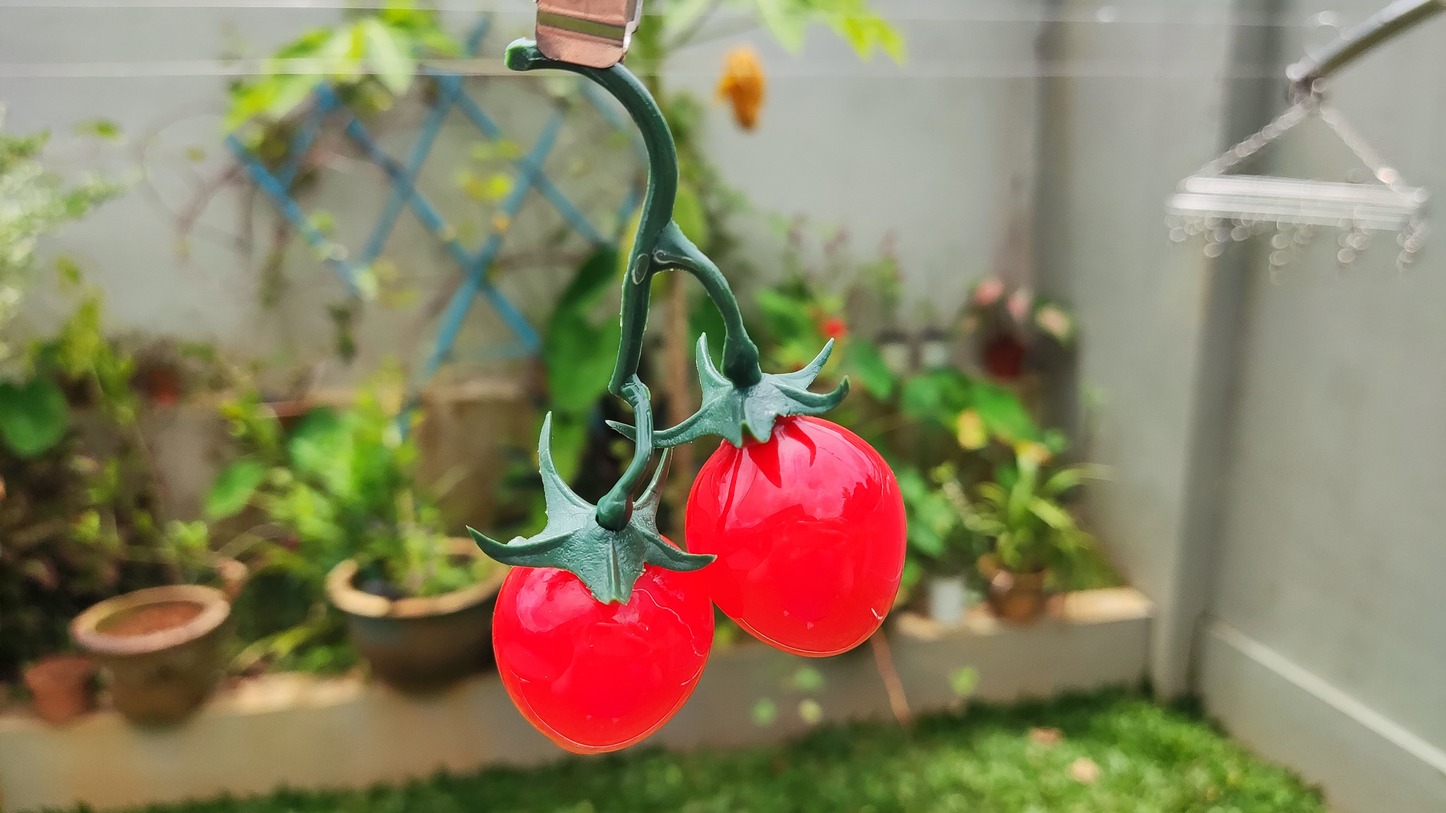peduncle: (602, 65, 679, 218)
strawberry: (686, 415, 907, 657), (492, 565, 714, 754)
